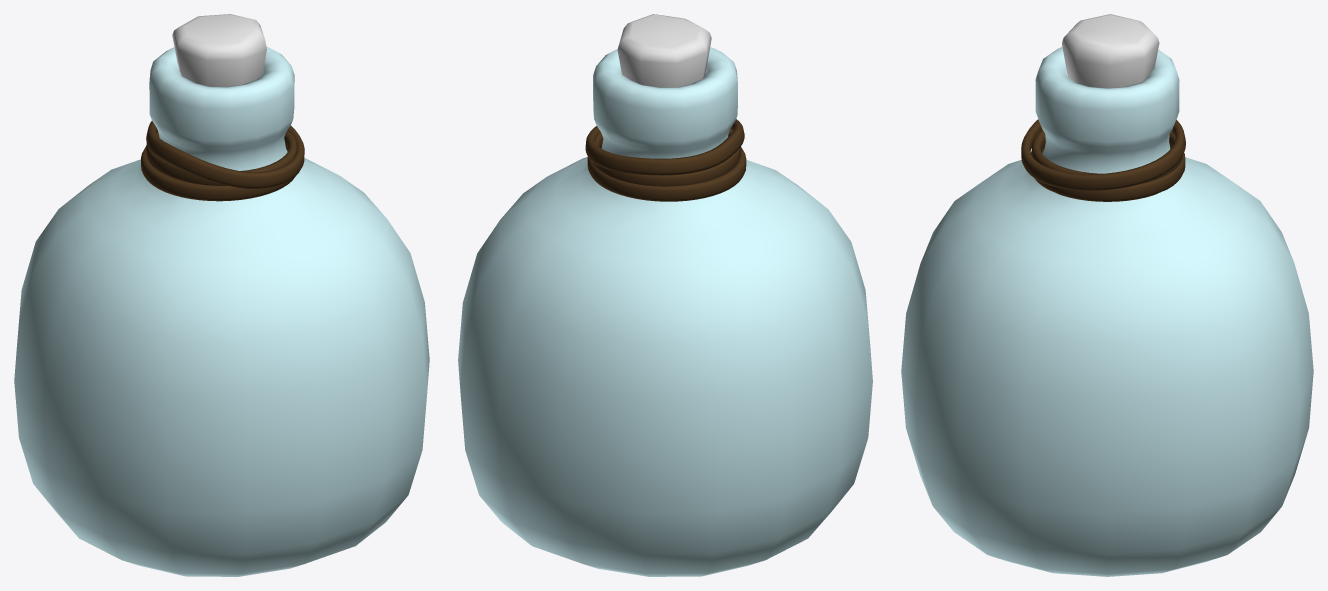
Rendered from m_BluePotion2.fbx.
The picture shows the model from 3 angles, left to right: view 1: azimuth 30°, elevation 25°; view 2: azimuth 150°, elevation 25°; view 3: azimuth 270°, elevation 25°; orthographic projection.
Parts seen in each view (by area): view 1: m_BluePotion2; view 2: m_BluePotion2; view 3: m_BluePotion2.
Boxes of the visible parts, x1,y1,x2,y2 form: m_BluePotion2: (14,14,429,576); m_BluePotion2: (458,14,872,576); m_BluePotion2: (901,14,1313,576).
Bounding box in the file's own units: 50.89 × 67.77 × 50.89.
